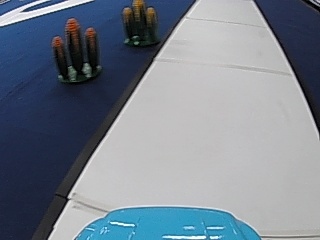corn: (52, 18, 102, 84), (121, 0, 160, 47)
